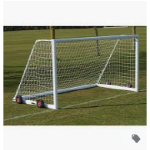goals: (11, 33, 142, 112)
